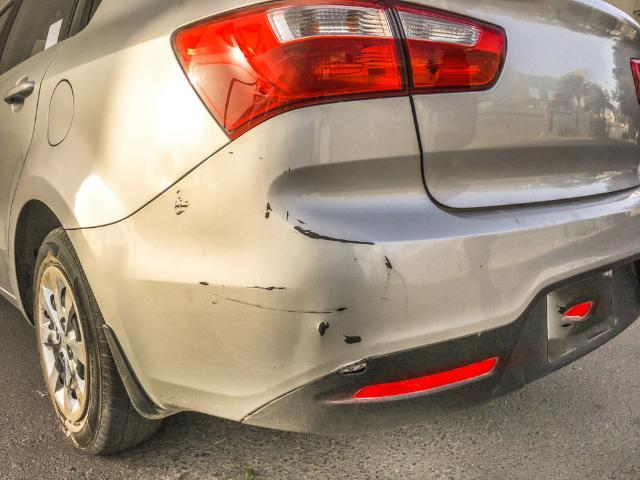dent: (152, 148, 178, 185)
scratch: (200, 280, 363, 350), (258, 201, 397, 282)
